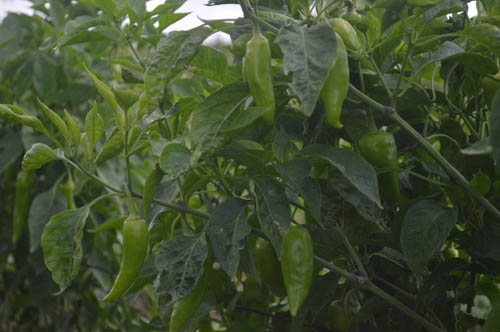ChiliPepper: (101, 216, 146, 301), (280, 226, 317, 315), (169, 252, 212, 328), (319, 36, 352, 128), (361, 133, 401, 204), (245, 37, 277, 120), (12, 172, 38, 242), (331, 18, 366, 55)
